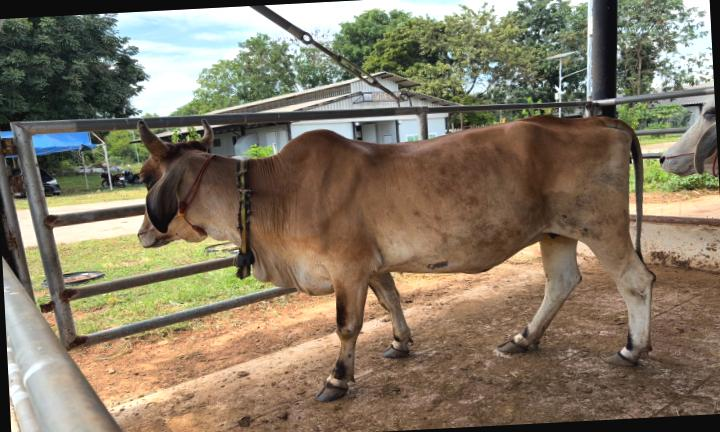Brahman: (138, 115, 653, 400)
